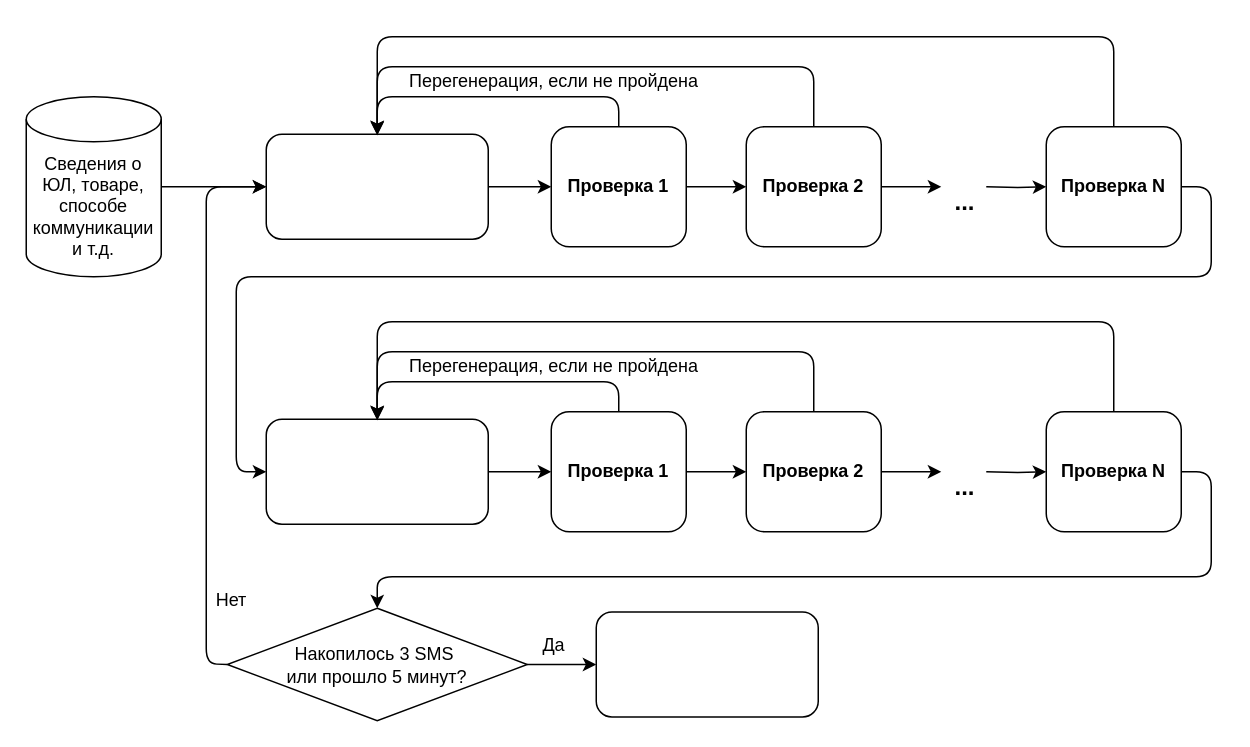
The diagram is 1250 pixels wide and 747 high, and some of its shapes have lost their labels. Each missing label, with the centre of its shape:
Копирайтер ( GigaChat Pro ) Написание неперсонализированного SMS: point 376,186
Ранжировщик ( ML модель, не LLM ) Ранжирование неперс. и перс. SMS: point 706,663
Редактор ( GigaChat Pro ) Написание персонализированного SMS: point 376,471
